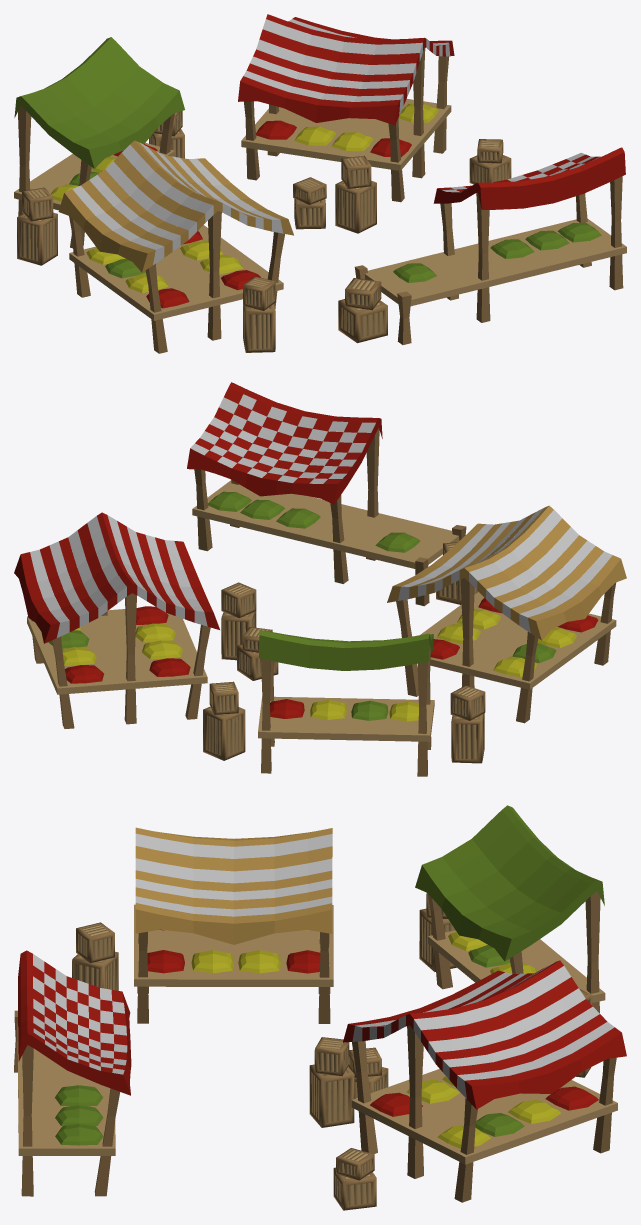
The model's file is markt.glb.
3 views of the same model, one above another, from view 1: azimuth 30°, elevation 25°; view 2: azimuth 150°, elevation 25°; view 3: azimuth 270°, elevation 25° (orthographic). The views are drawn at different scales.
Visible parts, largest first — view 1: markt; view 2: markt; view 3: markt.
Boxes of the visible parts, <box> form: markt: <box>14,14,626,353</box>; markt: <box>14,382,626,776</box>; markt: <box>14,805,626,1210</box>.
Bounding box in the file's own units: 6.83 × 1.99 × 6.71.
